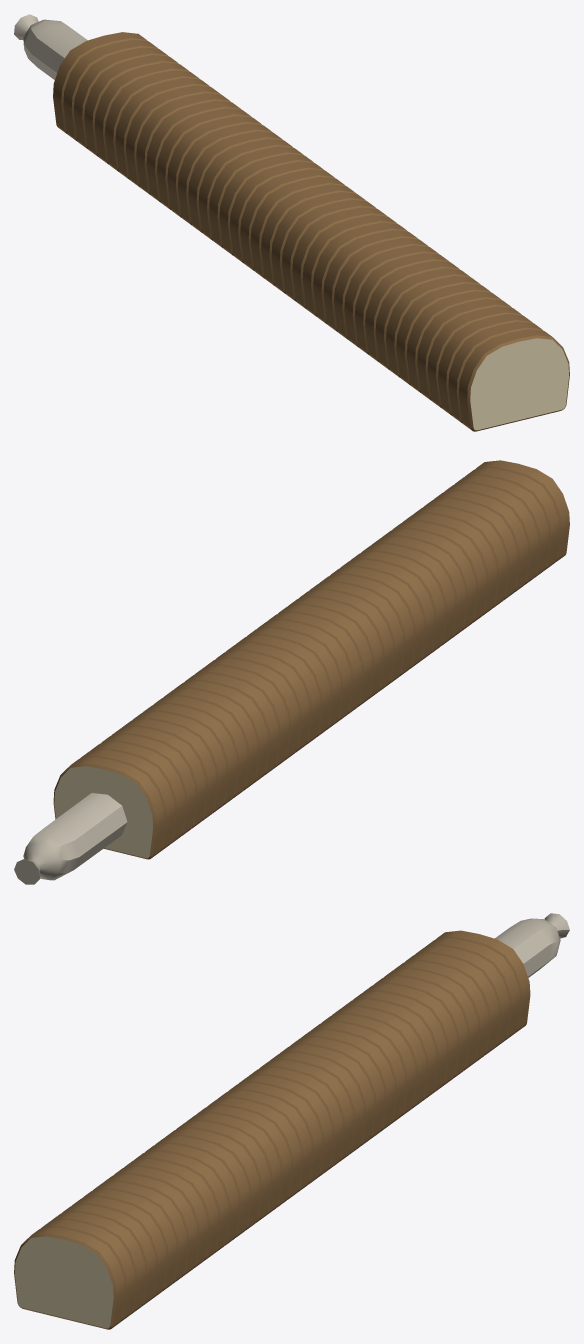
Rendered from w_bread@bread_sliced.glb.
The picture shows the model from 3 angles, top to bottom: view 1: azimuth 30°, elevation 25°; view 2: azimuth 150°, elevation 25°; view 3: azimuth 330°, elevation 25°; orthographic projection.
Parts seen in each view (by area): view 1: bread_wzB__crust__p8a6a44, bread_wzN__crumb__pe2d4b2, sleeve_wzA__paper__pbdb6a7; view 2: bread_wzB__crust__p8a6a44, sleeve_wzA__paper__pbdb6a7, bread_wzN__crumb__pe2d4b2; view 3: bread_wzB__crust__p8a6a44, bread_wzN__crumb__pe2d4b2, sleeve_wzA__paper__pbdb6a7.
Boxes of the visible parts, x1,y1,x2,y2 form: bread_wzB__crust__p8a6a44: (53, 32, 569, 431); bread_wzN__crumb__pe2d4b2: (470, 338, 568, 430); sleeve_wzA__paper__pbdb6a7: (14, 14, 87, 79); bread_wzB__crust__p8a6a44: (53, 460, 569, 859); sleeve_wzA__paper__pbdb6a7: (14, 793, 127, 884); bread_wzN__crumb__pe2d4b2: (54, 766, 153, 858); bread_wzB__crust__p8a6a44: (14, 930, 530, 1329); bread_wzN__crumb__pe2d4b2: (15, 1236, 113, 1328); sleeve_wzA__paper__pbdb6a7: (495, 913, 569, 977).
Bounding box in the file's own units: 0.2111 × 0.162 × 1.75.
